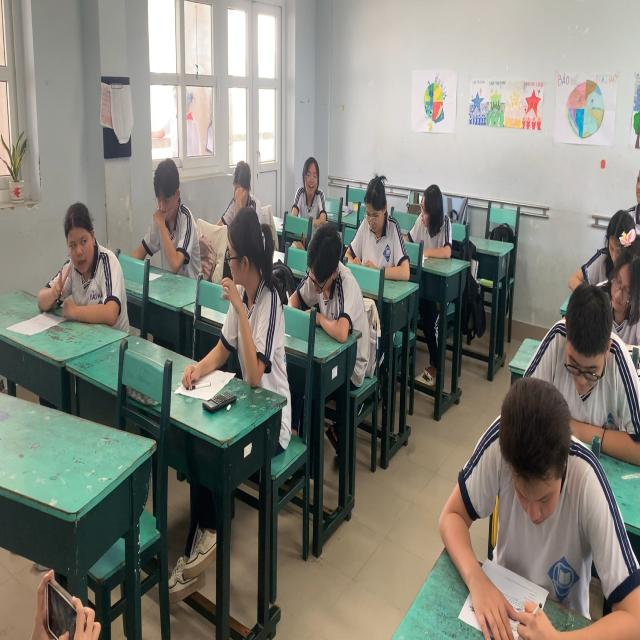cheating: (204, 186, 282, 426), (38, 190, 131, 356), (129, 155, 193, 293), (394, 174, 462, 268), (292, 130, 337, 226)
not_cheating: (420, 363, 598, 633), (530, 285, 634, 480), (295, 222, 377, 371), (563, 214, 640, 359), (351, 189, 416, 309), (588, 150, 640, 274), (220, 155, 266, 240)
